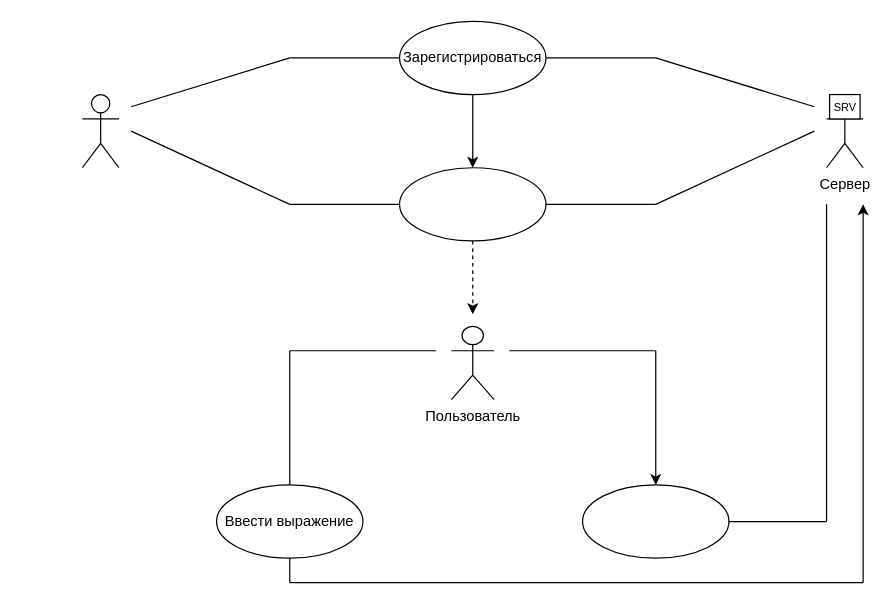
Image size: 894x614. Some labels were removed from this diagram. The centre of each missing label's shape, as x and y in pixels:
Войти: [472,204]
Незарегистрированный пользователь: [100,130]
Просмотреть историю: [655,521]
